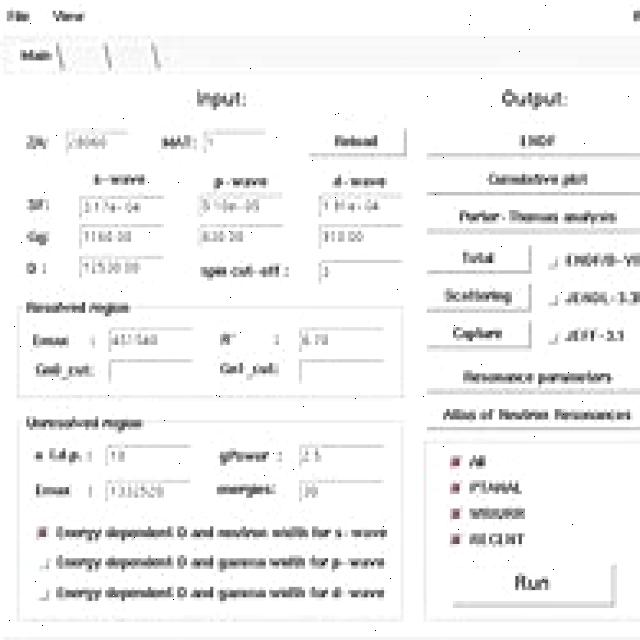button: (448, 560, 622, 612), (422, 160, 640, 198), (423, 397, 640, 434), (420, 121, 640, 157), (421, 358, 637, 394), (422, 202, 640, 236), (417, 239, 534, 275), (303, 119, 409, 157), (421, 317, 534, 351), (421, 280, 532, 313)
checkbox: (542, 288, 559, 308), (541, 248, 558, 268), (34, 521, 50, 541), (34, 581, 49, 602), (35, 550, 50, 571), (542, 326, 560, 342)
input: (105, 322, 199, 354), (76, 254, 169, 286), (103, 440, 195, 472), (106, 355, 195, 388), (298, 322, 388, 353), (296, 475, 386, 505), (298, 358, 387, 388), (316, 258, 408, 287), (297, 440, 388, 469), (101, 476, 195, 504), (196, 192, 286, 220), (77, 224, 167, 252), (76, 194, 166, 222), (317, 190, 405, 218), (197, 224, 284, 252), (63, 125, 130, 159), (317, 223, 403, 249), (202, 129, 271, 158)
label: (54, 549, 390, 575), (54, 522, 394, 542), (54, 583, 392, 602), (19, 410, 150, 433), (493, 82, 577, 116), (28, 354, 96, 383), (192, 262, 300, 280), (216, 356, 286, 383), (212, 443, 290, 467), (25, 443, 95, 468), (191, 85, 255, 110), (25, 475, 86, 501), (212, 479, 284, 501), (26, 328, 97, 348), (215, 330, 287, 349), (22, 256, 64, 280), (23, 124, 53, 156), (161, 125, 193, 154), (16, 192, 59, 212), (23, 225, 56, 245)
menu: (41, 3, 92, 26), (0, 3, 32, 30)
tabControl: (9, 37, 179, 80)
